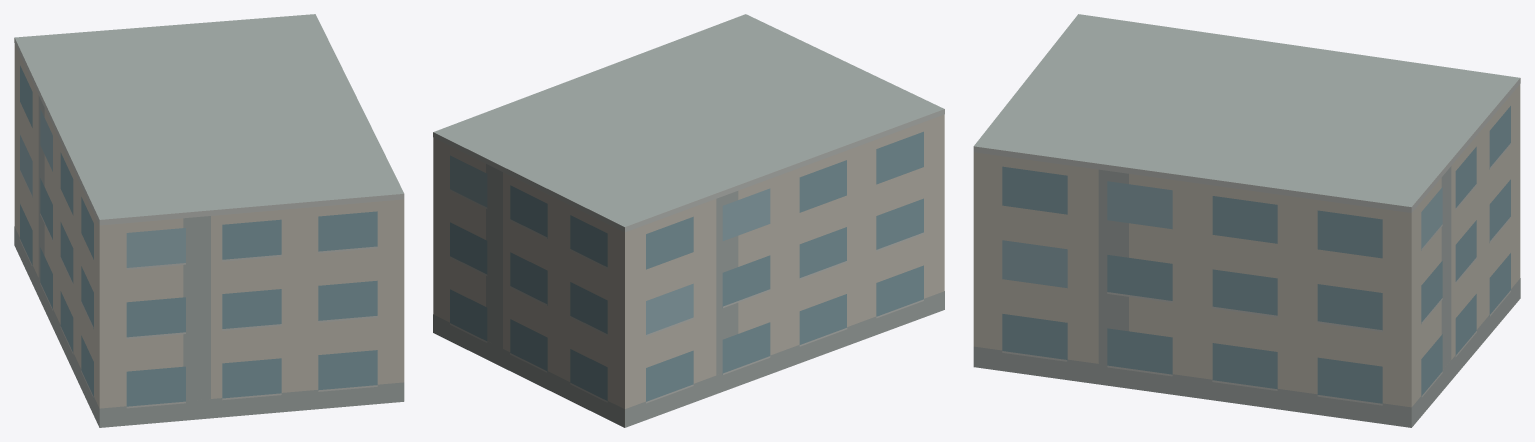
Rendered from survey-upis-32744416.glb.
The picture shows the model from 3 angles, left to right: view 1: azimuth 30°, elevation 25°; view 2: azimuth 150°, elevation 25°; view 3: azimuth 270°, elevation 25°; orthographic projection. The views are drawn at different scales.
Parts seen in each view (by area): view 1: survey-upis-32744416.tmp; view 2: survey-upis-32744416.tmp; view 3: survey-upis-32744416.tmp.
Boxes of the visible parts, <box> form: survey-upis-32744416.tmp: <box>14,14,404,427</box>; survey-upis-32744416.tmp: <box>433,14,944,427</box>; survey-upis-32744416.tmp: <box>973,14,1520,427</box>.
Size of the model in its own units: 17.18 by 9.15 by 20.55.
